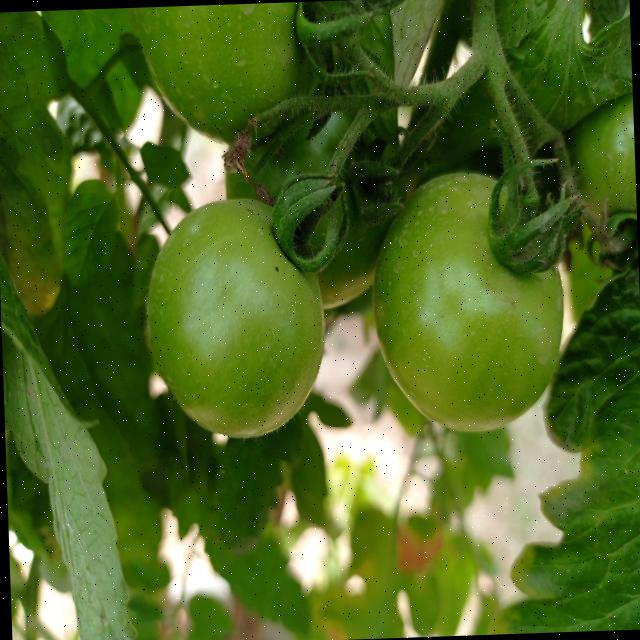Unripe: (365, 163, 568, 434), (141, 192, 328, 438)
